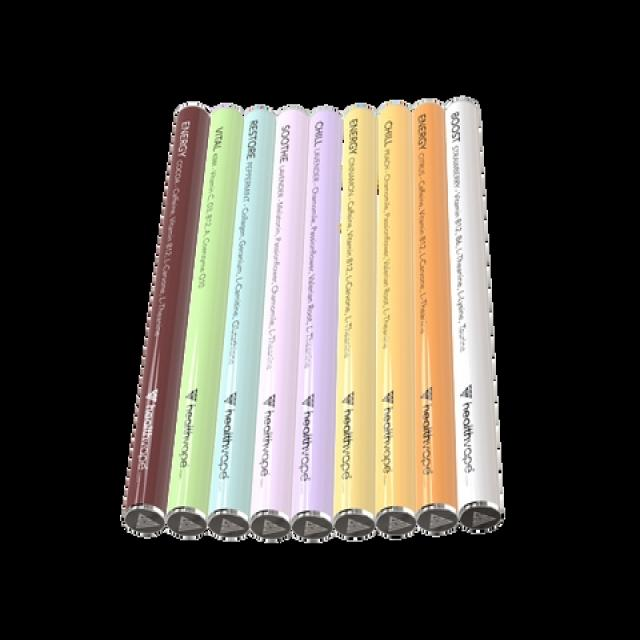Vape-images: (119, 96, 505, 544)
